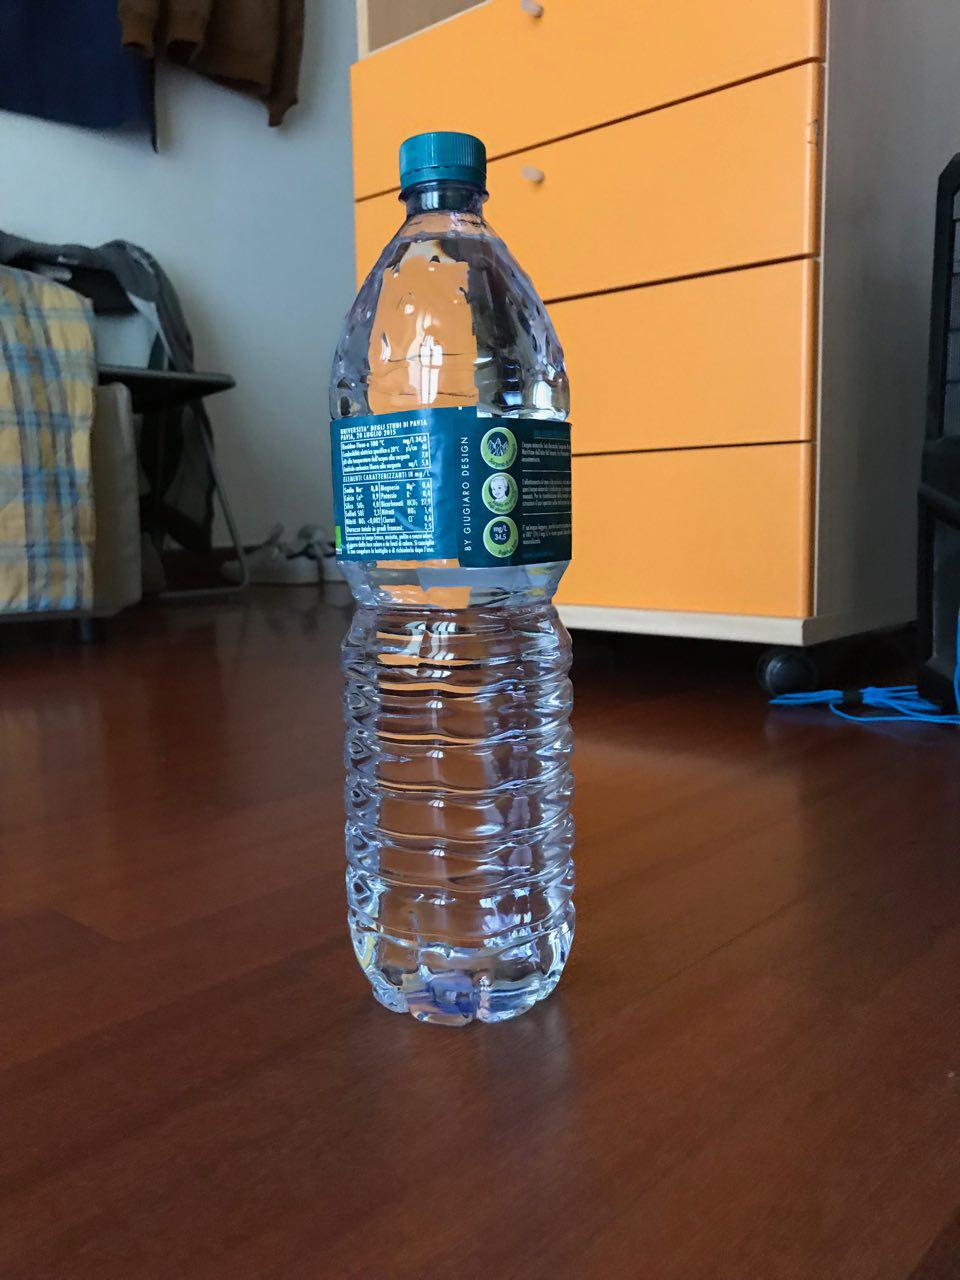san_bernardo: (327, 129, 578, 1032)
